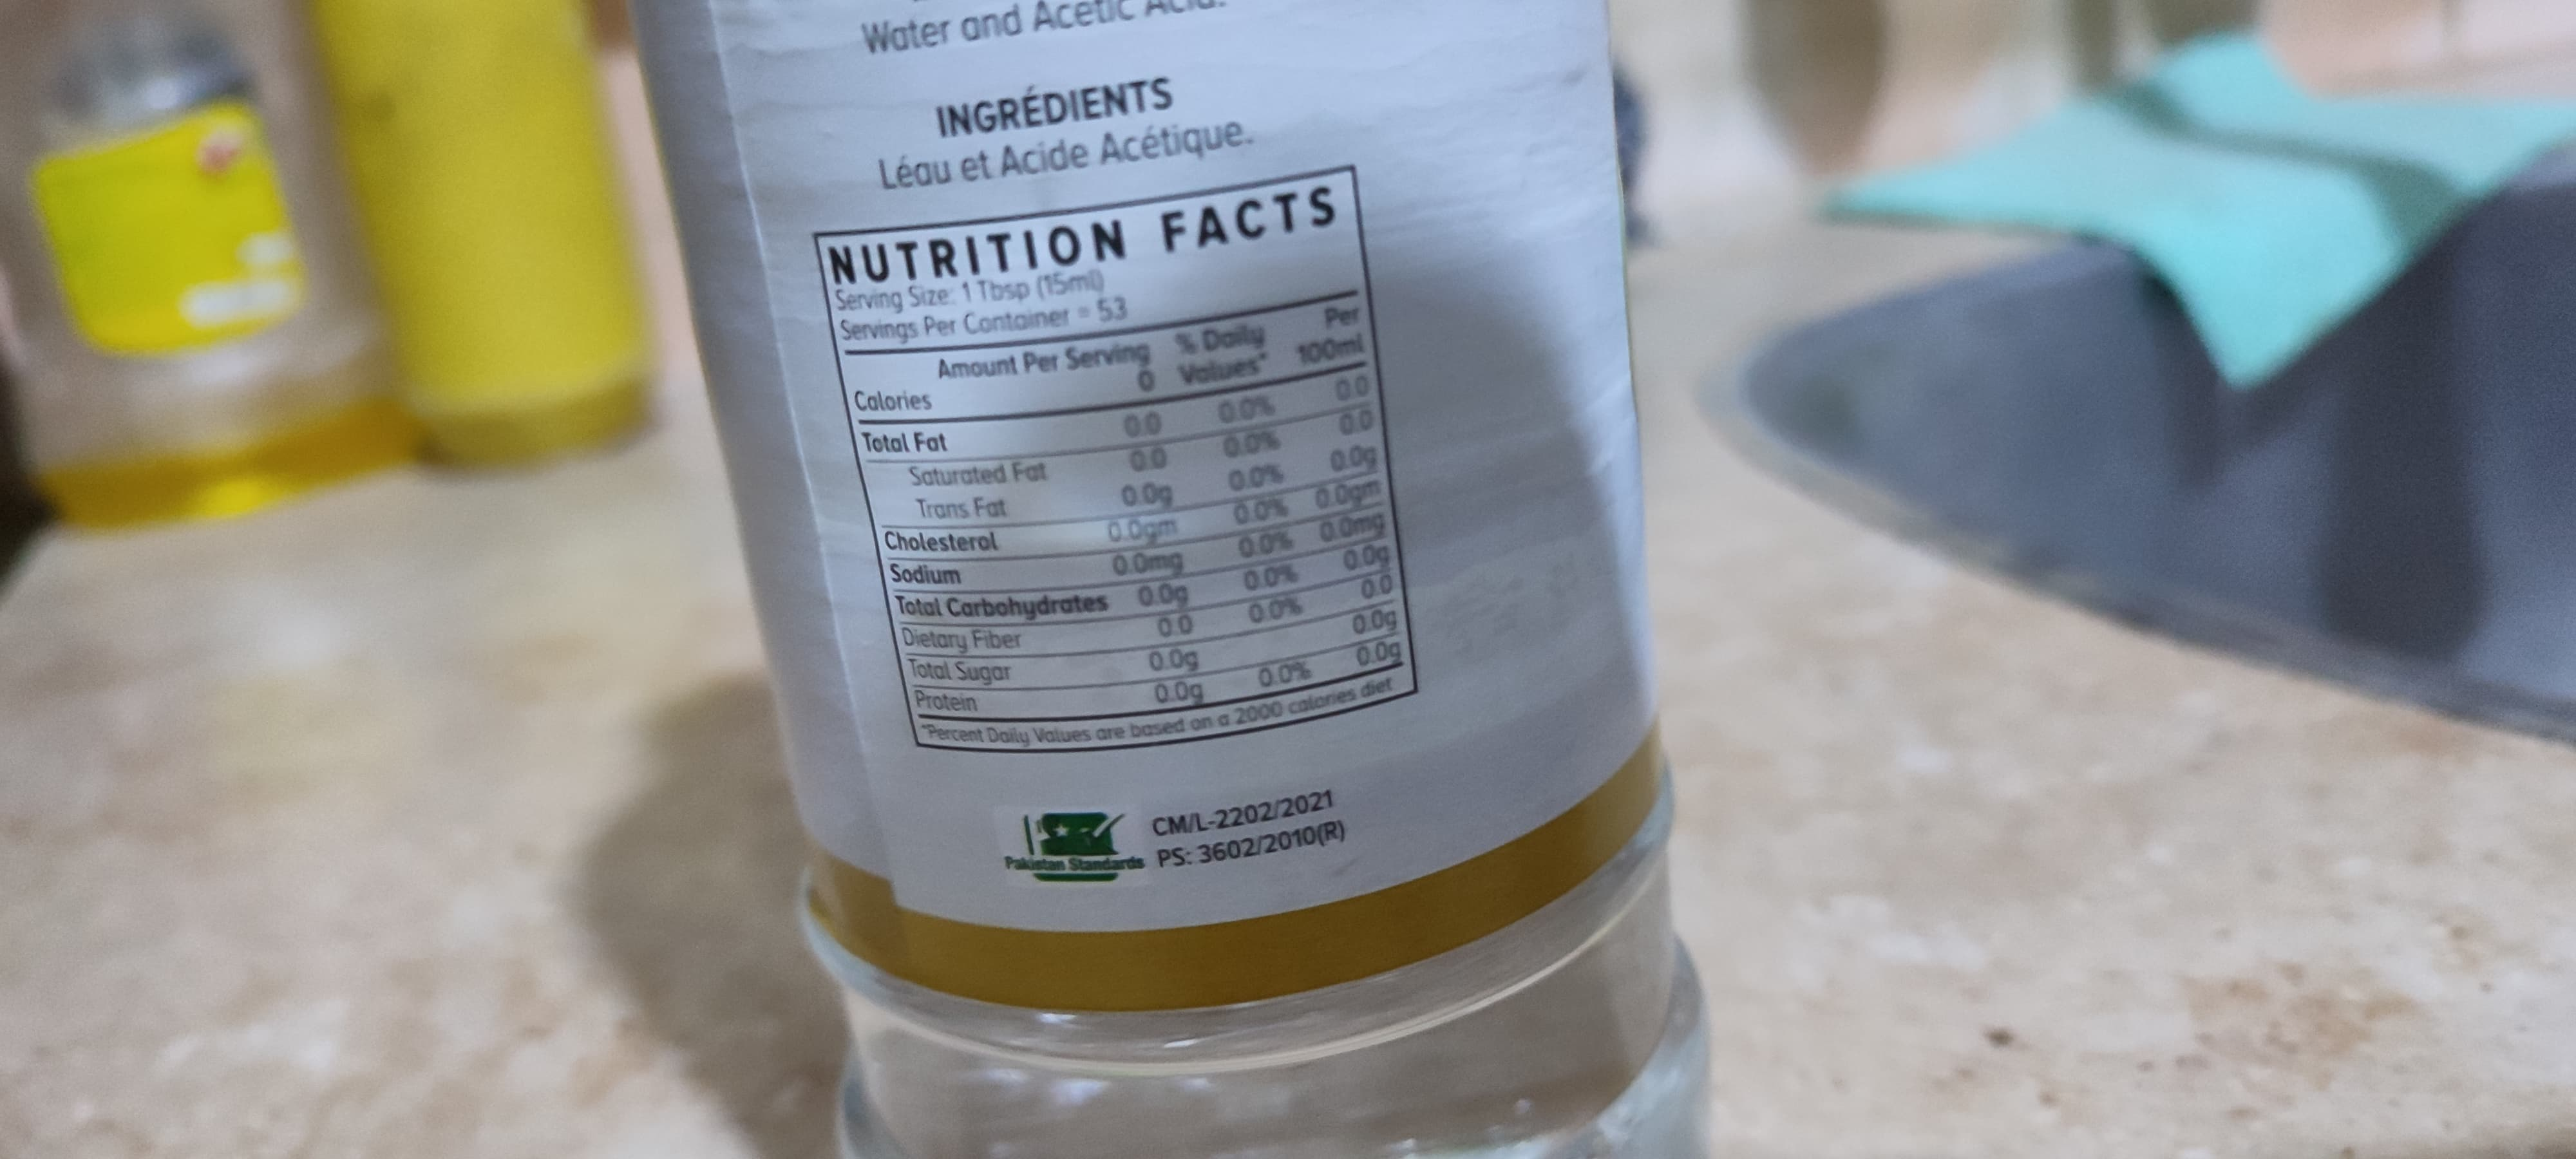table: (795, 166, 1444, 760)
